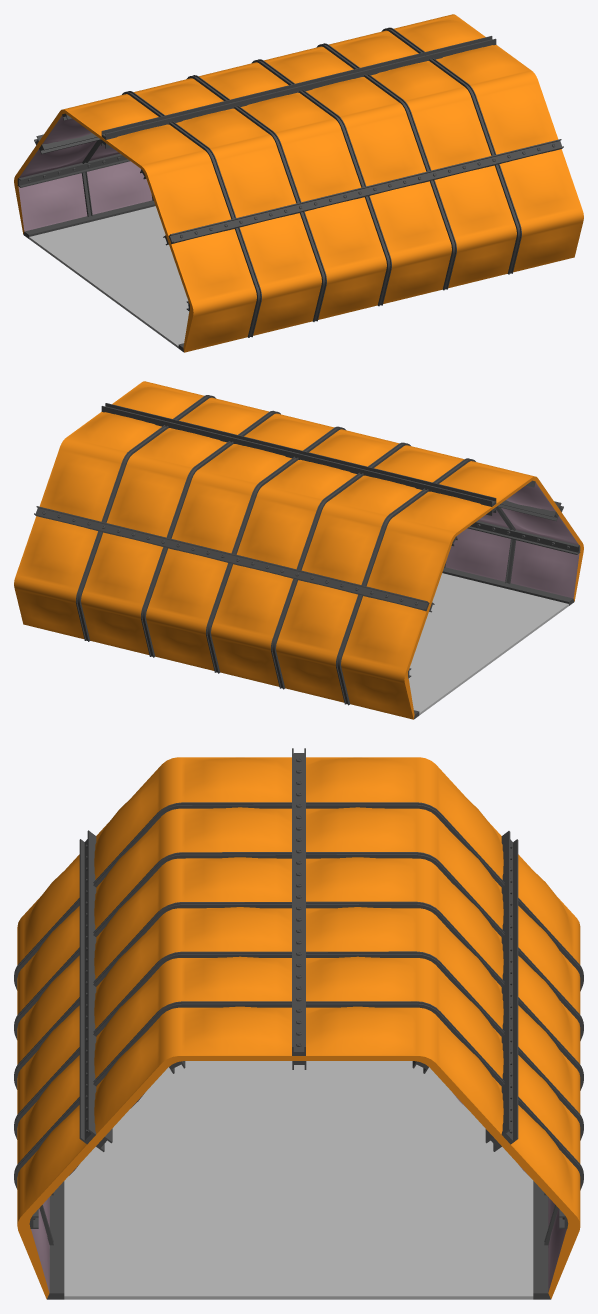
File: Habitat01.fbx
3 views of the same model, one above another, from view 1: azimuth 30°, elevation 25°; view 2: azimuth 150°, elevation 25°; view 3: azimuth 270°, elevation 25° (orthographic). The views are drawn at different scales.
Visible parts, largest first — view 1: SM_Habitat01; view 2: SM_Habitat01; view 3: SM_Habitat01.
Part boxes in pixels (x1,y1,x2,y2): SM_Habitat01: [14, 14, 583, 352]; SM_Habitat01: [14, 381, 583, 719]; SM_Habitat01: [14, 748, 583, 1299].
Size of the model in its own units: 1400 by 559 by 1129.
